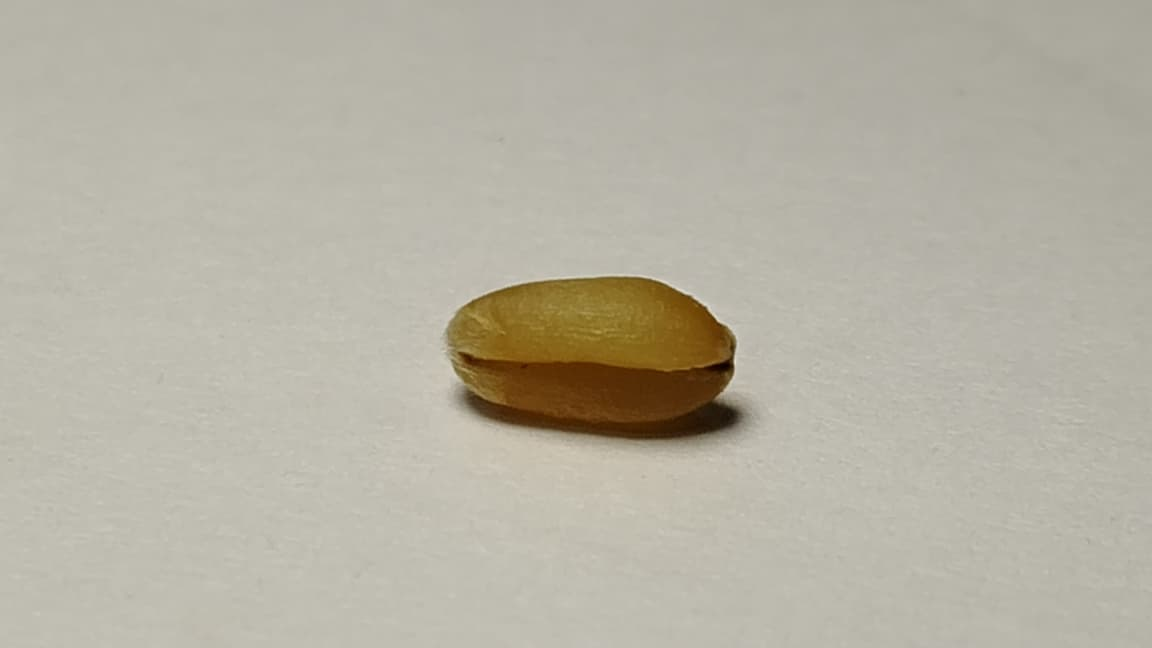healthy: (446, 278, 734, 421)
